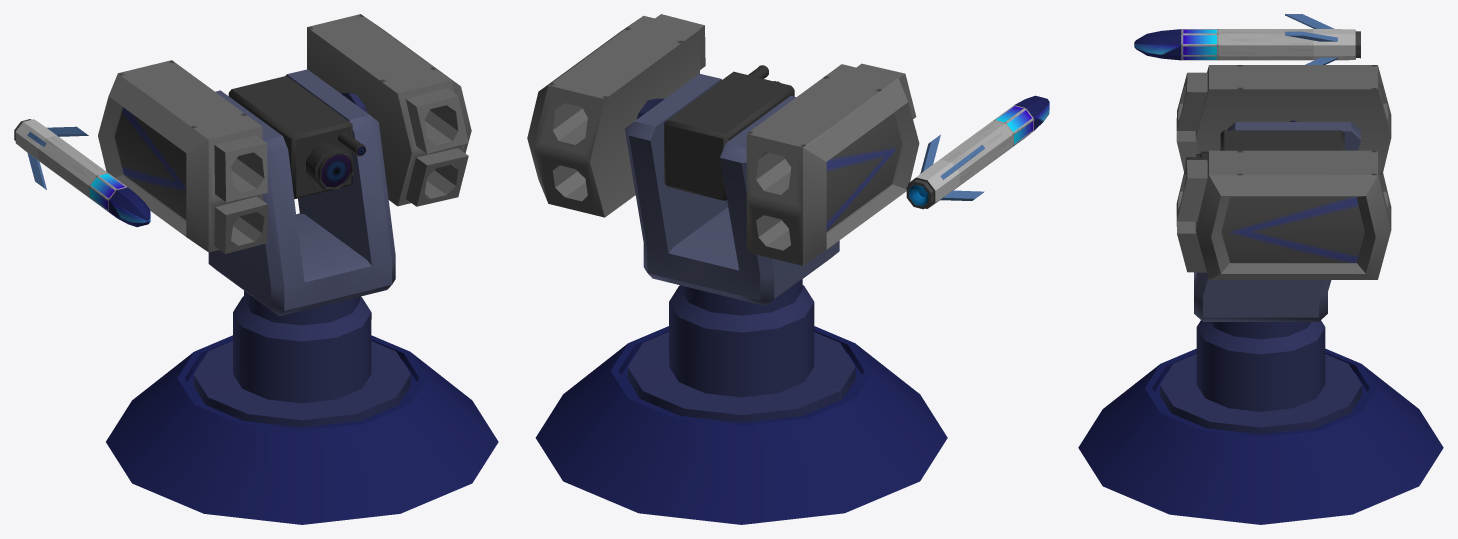
File: Missile_Launcher.fbx
The picture shows the model from 3 angles, left to right: view 1: azimuth 30°, elevation 25°; view 2: azimuth 150°, elevation 25°; view 3: azimuth 270°, elevation 25°; orthographic projection. The views are drawn at different scales.
Parts seen in each view (by area): view 1: launcher, Cylinder, pivit, rotator, Center, rocket, camera_big; view 2: launcher, Cylinder, rotator, pivit, Center, rocket; view 3: launcher, Cylinder, rotator, rocket, pivit, Center.
Boxes of the visible parts, <box> form: launcher: <box>98,14,471,253</box>; Cylinder: <box>106,335,498,524</box>; pivit: <box>208,69,395,316</box>; rotator: <box>193,290,410,427</box>; Center: <box>228,76,352,199</box>; rocket: <box>14,119,150,227</box>; camera_big: <box>306,142,353,190</box>; launcher: <box>527,14,919,265</box>; Cylinder: <box>535,326,947,524</box>; rotator: <box>627,279,855,422</box>; pivit: <box>624,73,839,305</box>; Center: <box>664,71,794,200</box>; rocket: <box>906,95,1049,209</box>; launcher: <box>1176,65,1391,279</box>; Cylinder: <box>1078,348,1443,524</box>; rotator: <box>1160,320,1361,434</box>; rocket: <box>1134,14,1360,64</box>; pivit: <box>1194,122,1360,321</box>; Center: <box>1220,130,1344,150</box>.
Bounding box in the file's own units: 27.12 × 21.98 × 22.22.
1 material, 1 textured.
